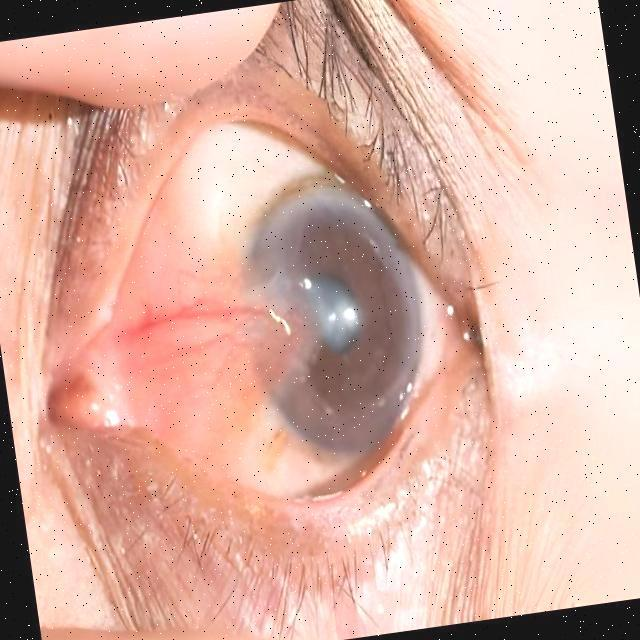Pterygium: (66, 250, 332, 458)
